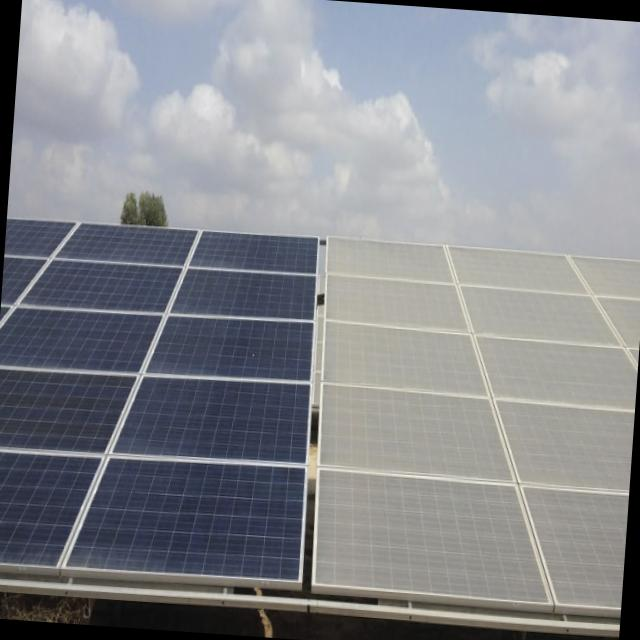faulty: (316, 236, 640, 605)
no faulty: (0, 223, 315, 571)
